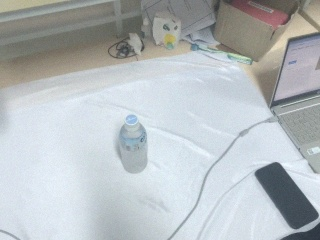bottle: (117, 114, 149, 174)
box: (213, 1, 291, 63)
phone: (252, 159, 320, 232)
